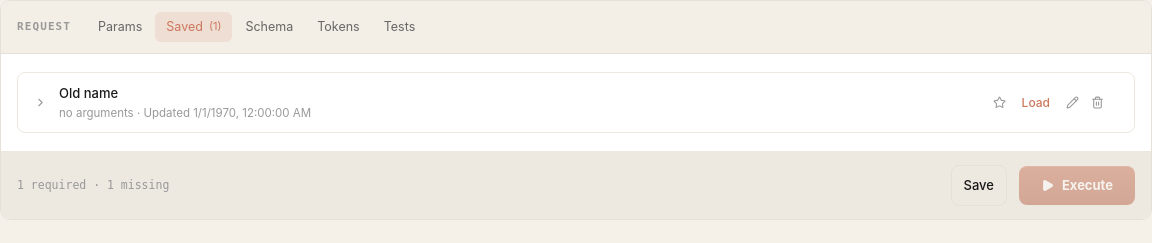
Scenario: ToolRequestPanel — Saved tab › with a stubbed testing API › renaming a saved request persists immediately
This screenshot has width=1152, height=243.
expect the text "Old name" is shown: met, box [59,85,118,101]
Click the button named "Rename Old name". click: (1072,103)
box: [1062,92,1083,113]
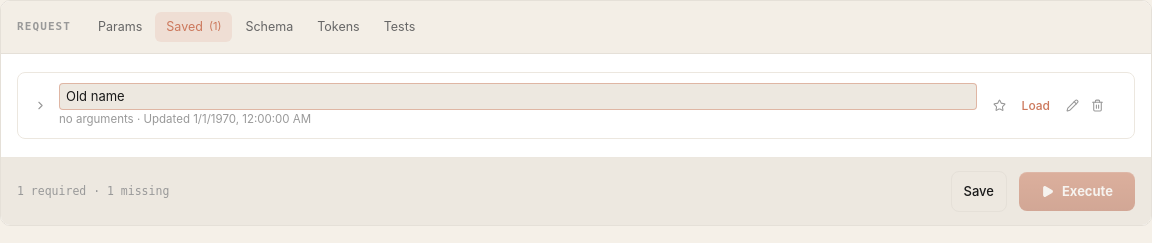
Replace the text in the field named "Rename saved request" with "New name". click: (518,96)
box: [59,83,977,110]
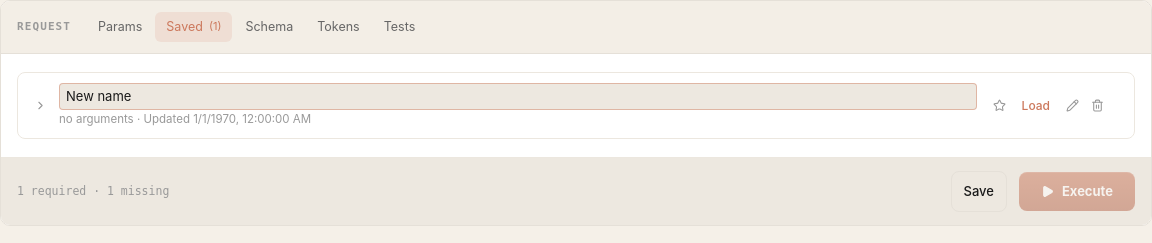
Press Enter in the field named "Rename saved request", box [59,83,977,110]
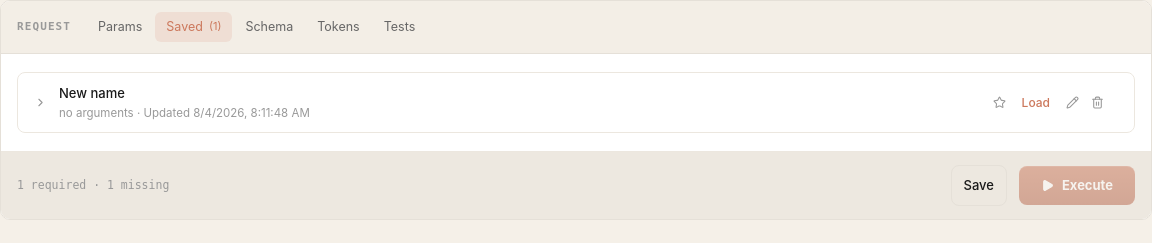
expect the text "New name" is shown: met, box [59,85,125,101]
